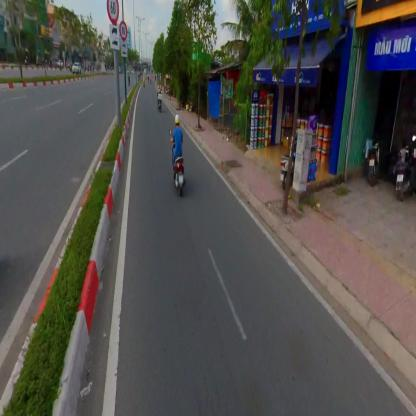Gioi han toc do: (106, 0, 118, 23), (119, 19, 128, 39)
